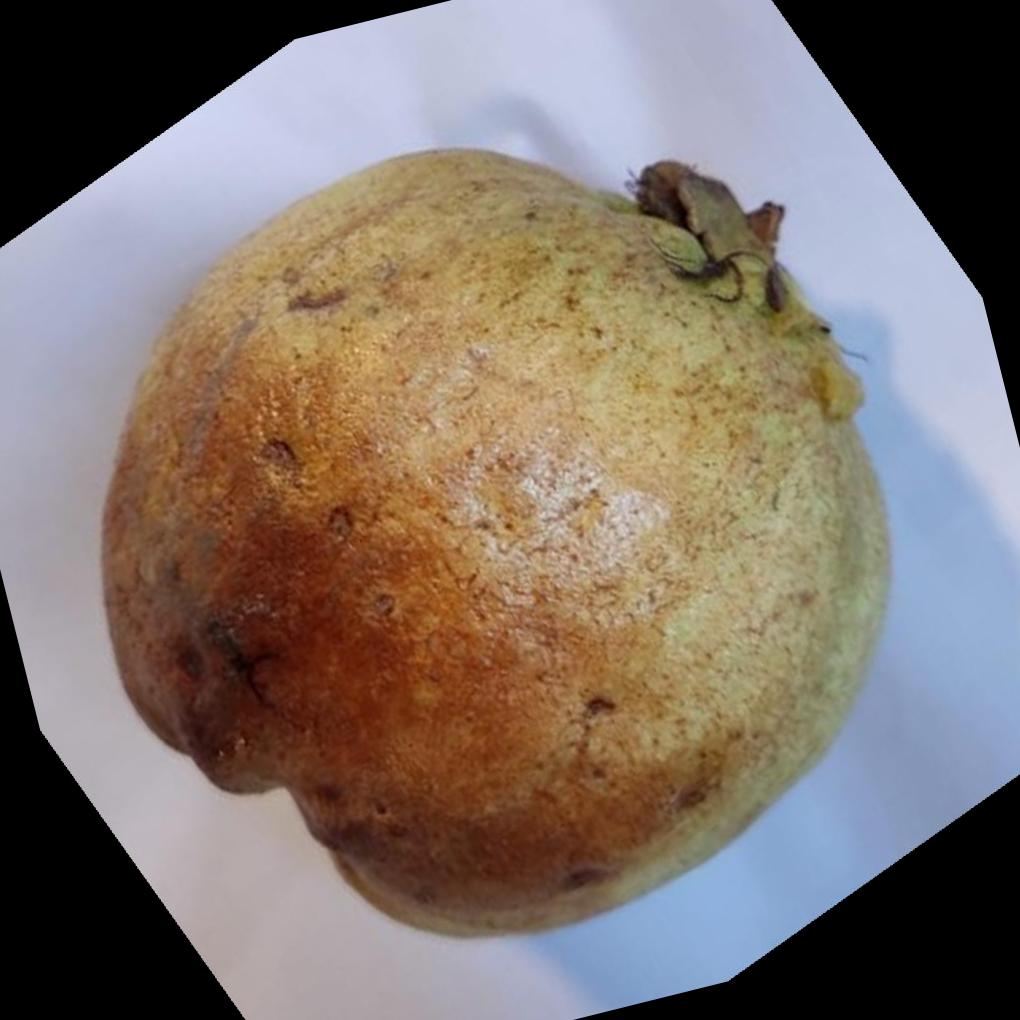FreshOrange: (97, 141, 894, 937)
